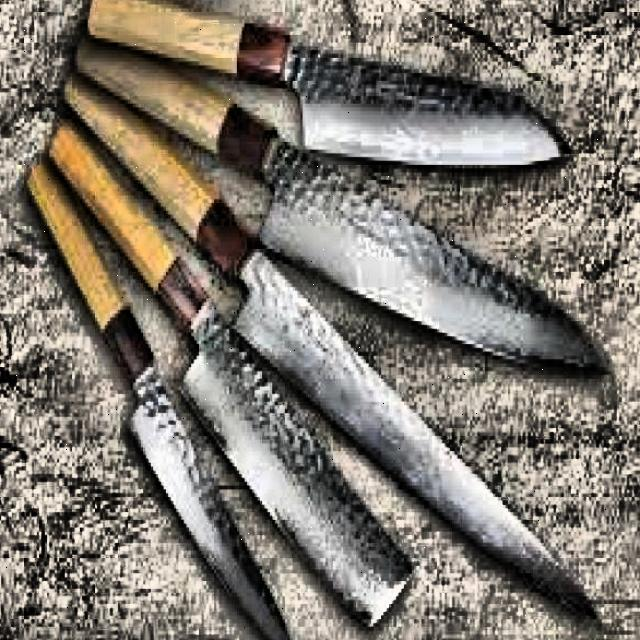knife: (63, 78, 609, 640), (67, 38, 623, 388), (45, 118, 418, 638), (14, 149, 308, 640), (80, 0, 571, 168)
